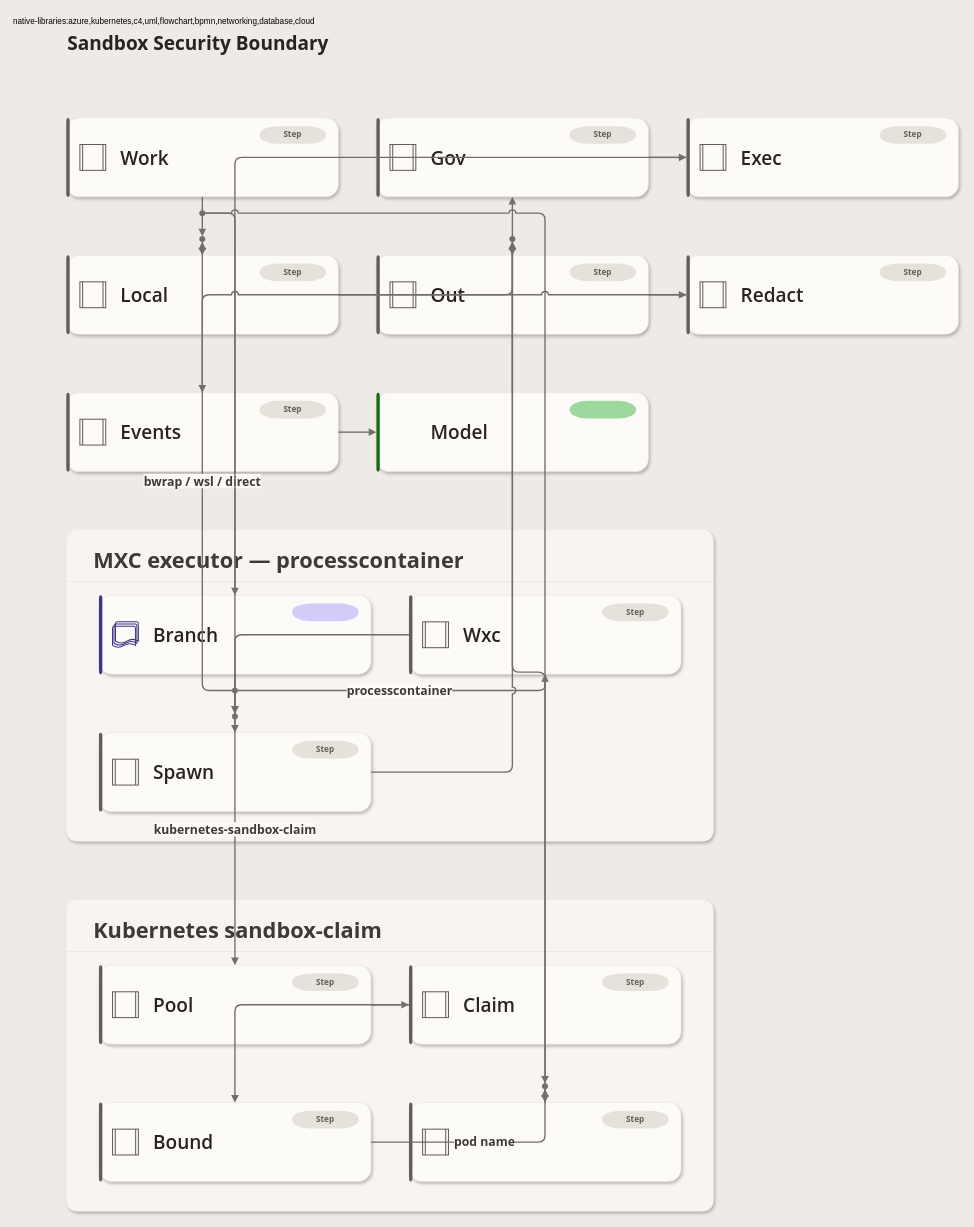
The diagram is 974 pixels wide and 1227 high, and some of its shapes have lost their labels. Here are the shapes that lost their labels. From the top down, the centre of each, then its label:
At point (602, 409): "Runtime".
At point (325, 612): "Git".
